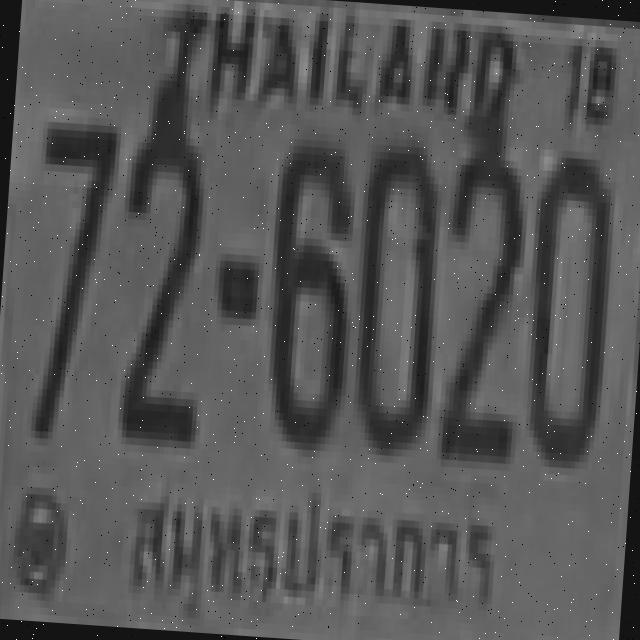0: (518, 148, 614, 462), (346, 137, 441, 450)
2: (110, 120, 210, 442), (432, 146, 527, 460), (117, 131, 211, 438)
6: (258, 130, 356, 444)
7: (22, 114, 117, 435), (28, 114, 118, 344)
SamutPrakan: (117, 464, 512, 624)
